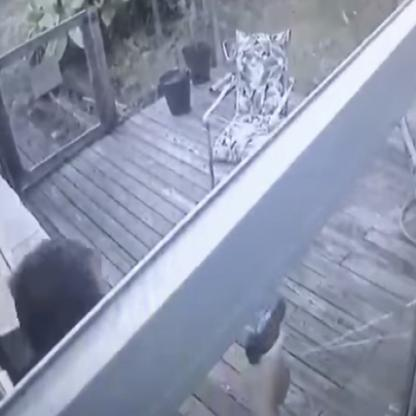weapon: (243, 299, 290, 368)
